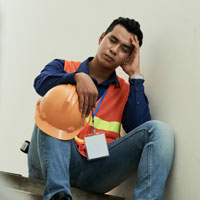noepi: (26, 16, 174, 199)
